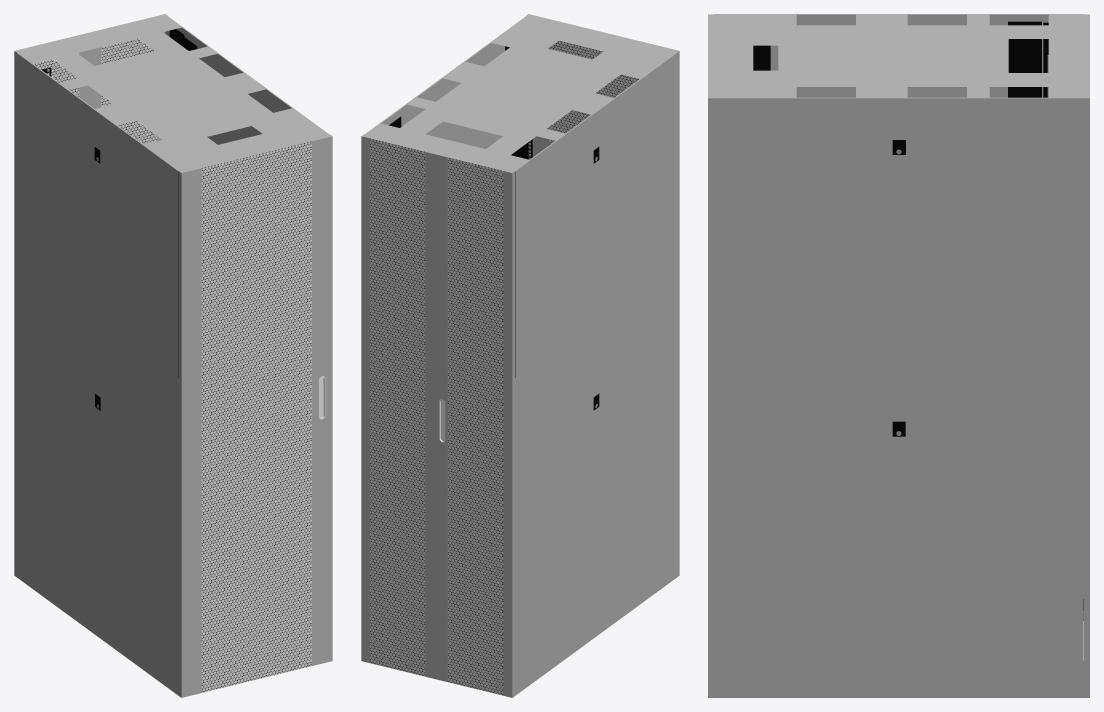
Rendered from APC3100-Cabinet.dae.
3 views of the same model, side by side, from view 1: azimuth 30°, elevation 25°; view 2: azimuth 150°, elevation 25°; view 3: azimuth 270°, elevation 25° (orthographic). The views are drawn at different scales.
Parts seen in each view (by area): view 1: Front_Door, Model, Top_Left_Side_Panel, Bottom_Left_Side_Panel, Back_Doors, Top_Right_Side_Panel; view 2: Back_Doors, Model, Top_Left_Side_Panel, Bottom_Left_Side_Panel, Front_Door, Top_Right_Side_Panel; view 3: Bottom_Right_Side_Panel, Top_Right_Side_Panel, Model, Front_Door, Back_Doors, Top_Left_Side_Panel, Mounting_Rail2.
Boxes of the visible parts, box(x1,y1,x2,y2) form: Front_Door: box(178, 134, 332, 697); Model: box(16, 16, 328, 695); Top_Left_Side_Panel: box(16, 86, 178, 417); Bottom_Left_Side_Panel: box(17, 333, 178, 663); Back_Doors: box(14, 14, 167, 577); Top_Right_Side_Panel: box(207, 126, 262, 144); Back_Doors: box(361, 134, 515, 697); Model: box(365, 16, 677, 695); Top_Left_Side_Panel: box(515, 86, 677, 417); Bottom_Left_Side_Panel: box(515, 333, 676, 663); Front_Door: box(526, 14, 679, 577); Top_Right_Side_Panel: box(426, 121, 502, 148); Bottom_Right_Side_Panel: box(714, 418, 1083, 660); Top_Right_Side_Panel: box(714, 136, 1083, 378); Model: box(714, 14, 1083, 697); Front_Door: box(708, 14, 714, 697); Back_Doors: box(1083, 14, 1089, 697); Top_Left_Side_Panel: box(770, 52, 1048, 97); Mounting_Rail2: box(1008, 21, 1041, 97).
Bounding box in the file's own units: 23.72 × 45.25 × 78.49.
7 materials, 2 textured.
